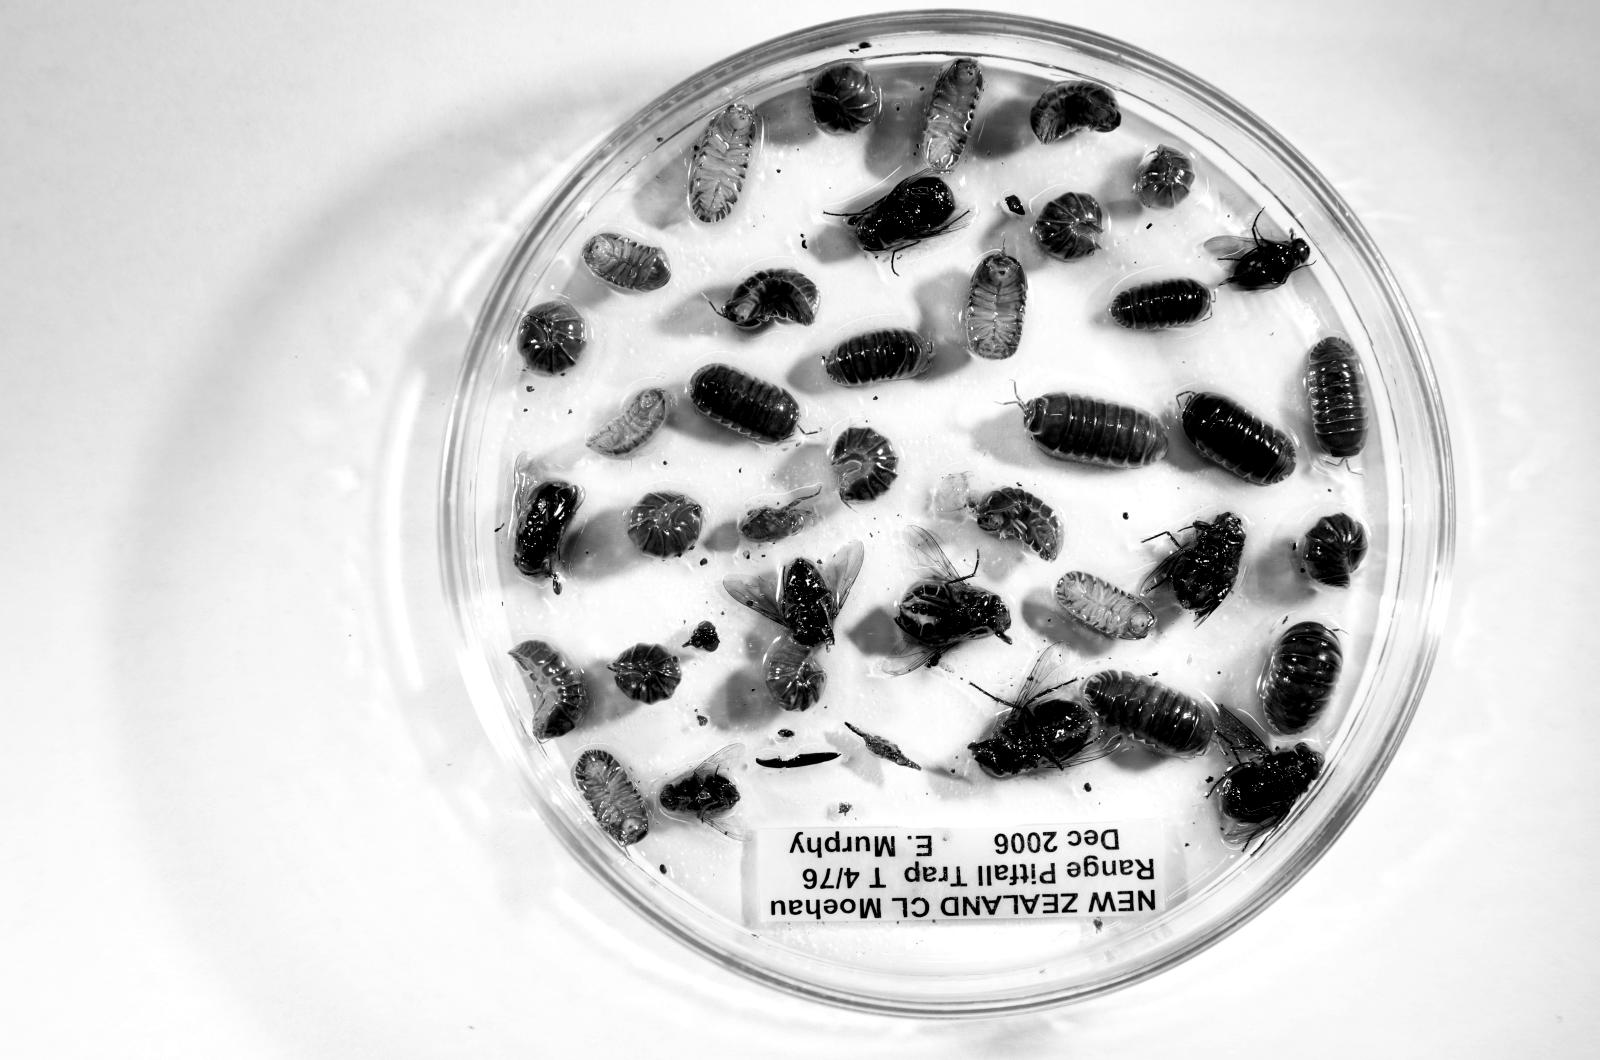diptera: (883, 526, 1011, 675), (969, 647, 1103, 778), (723, 541, 864, 646), (1140, 512, 1246, 625), (847, 172, 967, 251), (1218, 742, 1324, 828), (658, 744, 750, 841), (513, 467, 582, 579), (1204, 233, 1310, 291)
isopoda: (1081, 670, 1216, 756), (1177, 391, 1296, 485), (1020, 393, 1167, 469), (1257, 621, 1343, 734), (688, 364, 800, 443), (688, 103, 757, 222), (509, 640, 586, 741), (1305, 337, 1367, 457), (573, 749, 650, 845), (1055, 571, 1156, 640), (922, 58, 983, 171), (966, 251, 1027, 359), (973, 487, 1062, 560), (822, 328, 932, 387), (722, 269, 817, 329), (1031, 81, 1121, 144), (587, 388, 666, 455), (1110, 279, 1213, 330), (1298, 513, 1368, 587), (517, 299, 585, 375), (583, 232, 670, 291), (831, 427, 897, 503), (810, 62, 880, 133), (628, 492, 704, 557), (1032, 192, 1103, 261), (765, 639, 826, 711), (608, 644, 681, 703), (1134, 145, 1195, 208)
